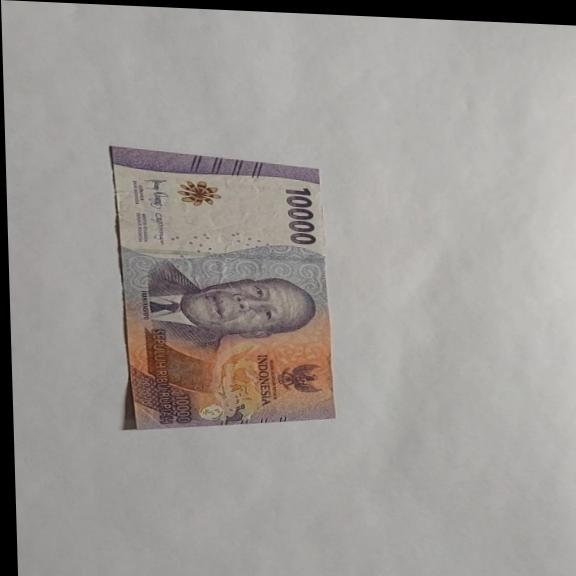Kertas: (108, 145, 338, 440), (284, 186, 318, 246)
